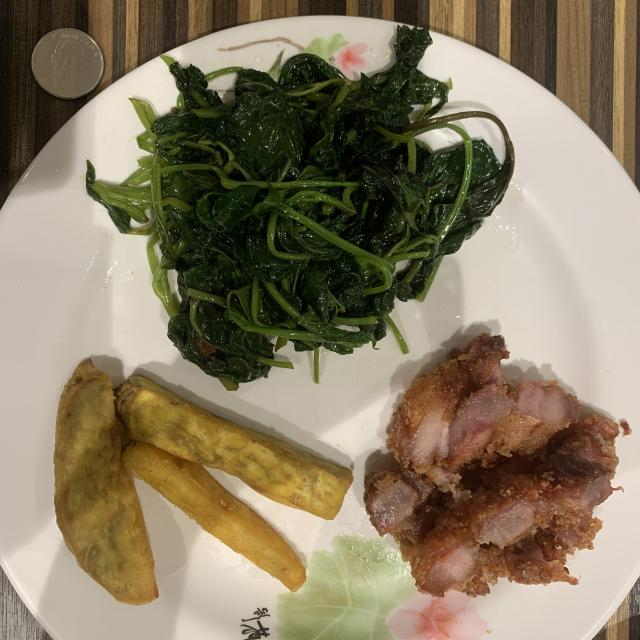coin: (31, 29, 104, 99)
red grilled pork: (364, 335, 619, 596)
sweet potato leaves: (90, 26, 514, 389)
